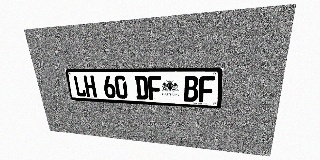0: (114, 75, 128, 99)
6: (102, 75, 116, 98)
B: (184, 76, 199, 102)
D: (134, 76, 149, 100)
F: (199, 76, 215, 103), (147, 76, 162, 100)
H: (83, 75, 97, 97)
L: (73, 75, 87, 97)
